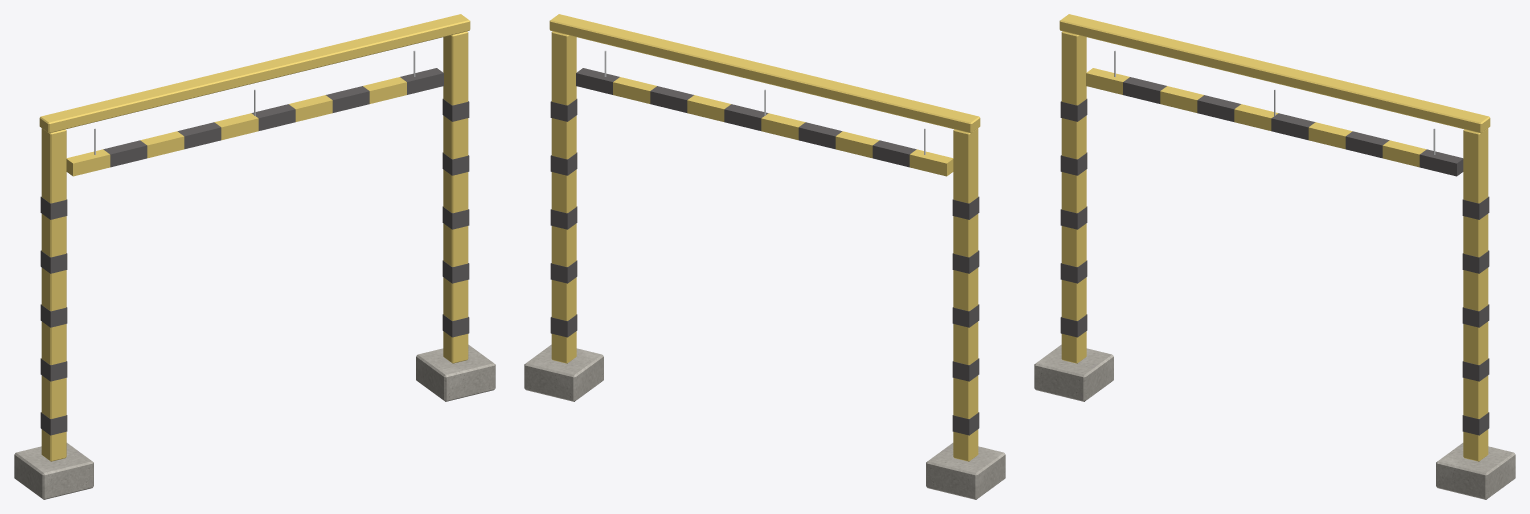
The model's file is clearance_bar.glb.
3 views of the same model, side by side, from view 1: azimuth 30°, elevation 25°; view 2: azimuth 150°, elevation 25°; view 3: azimuth 330°, elevation 25° (orthographic).
Parts seen in each view (by area): view 1: clearance_bar_accent, clearance_bar_dark, clearance_bar_concrete; view 2: clearance_bar_accent, clearance_bar_dark, clearance_bar_concrete; view 3: clearance_bar_accent, clearance_bar_dark, clearance_bar_concrete.
Boxes of the visible parts, <box> form: clearance_bar_accent: <box>39,14,470,461</box>; clearance_bar_dark: <box>40,68,469,435</box>; clearance_bar_concrete: <box>14,344,495,499</box>; clearance_bar_accent: <box>549,14,980,461</box>; clearance_bar_dark: <box>550,68,979,435</box>; clearance_bar_concrete: <box>524,344,1005,499</box>; clearance_bar_accent: <box>1059,14,1490,461</box>; clearance_bar_dark: <box>1060,77,1489,435</box>; clearance_bar_concrete: <box>1034,344,1515,499</box>.
Size of the model in its own units: 4.4 by 3.4 by 0.5.
Materials: 4 (1 with a texture image).
